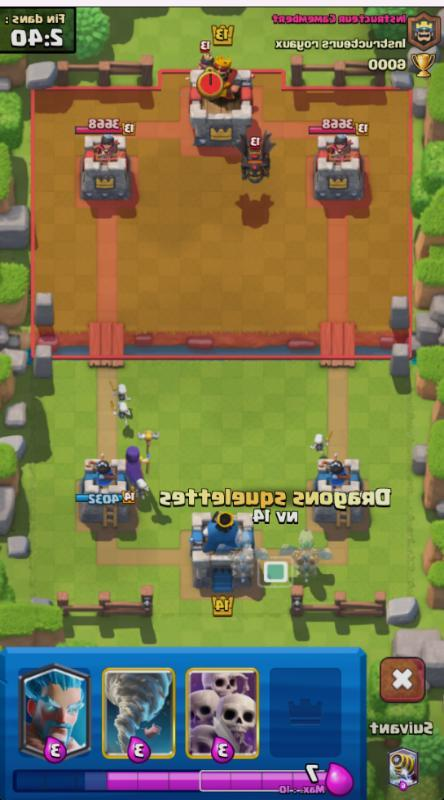player_skeletons: (306, 430, 331, 455), (108, 381, 135, 403), (110, 400, 137, 422), (129, 477, 156, 499)
player_witch: (122, 430, 159, 501)
